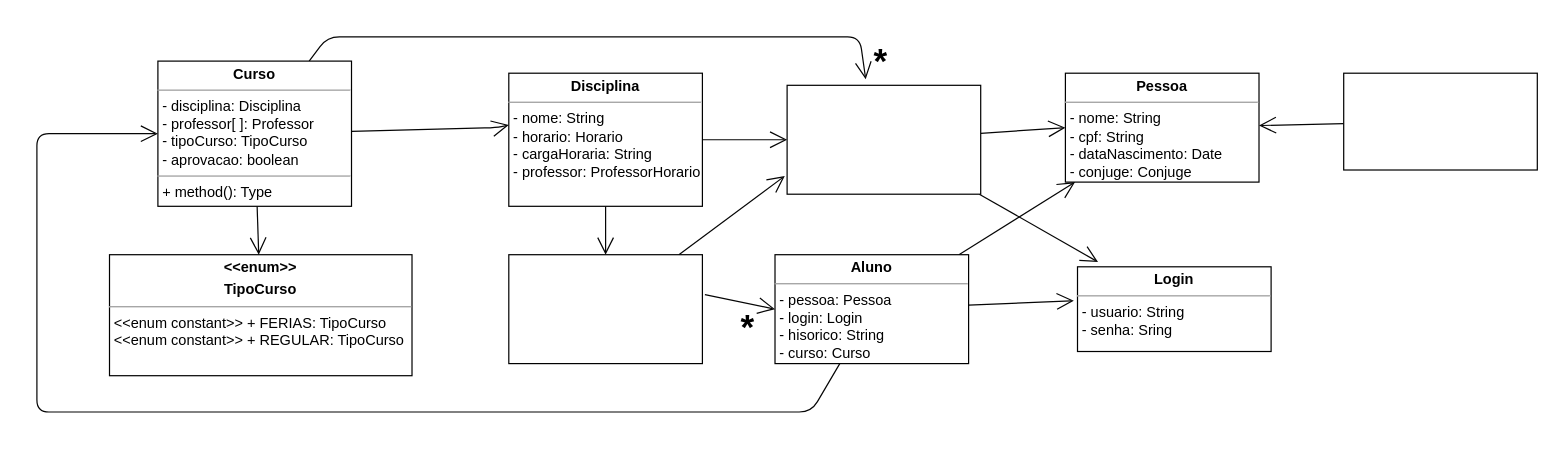
Some shapes in this 1558 by 450 pixel diagram are drawn without their labels. Each missing label, with the box of its shape:
Conjuge - nome: String - cpf: String - dataNascimento: Date: (1342, 72, 1537, 170)
Horario - aluno: Aluno - professor[ ]: Professor - numSala: int - dia: Date: (508, 253, 702, 364)
Professor - login: Login - pessoa: Pessoa: (786, 84, 981, 194)
